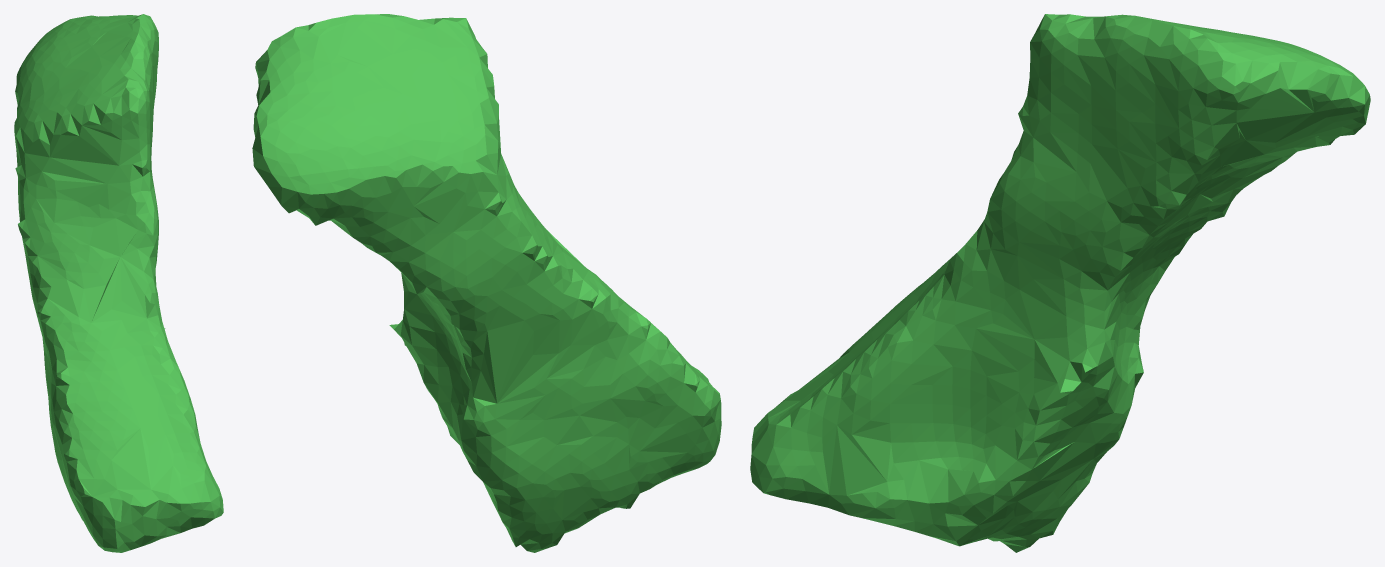
File: Model_10103_LH__Parainsular_cortex__lateral_part_(PaIL).obj
3 views of the same model, side by side, from view 1: azimuth 30°, elevation 25°; view 2: azimuth 150°, elevation 25°; view 3: azimuth 270°, elevation 25° (orthographic). The views are drawn at different scales.
Size of the model in its own units: 1.64 by 3.08 by 2.91.
